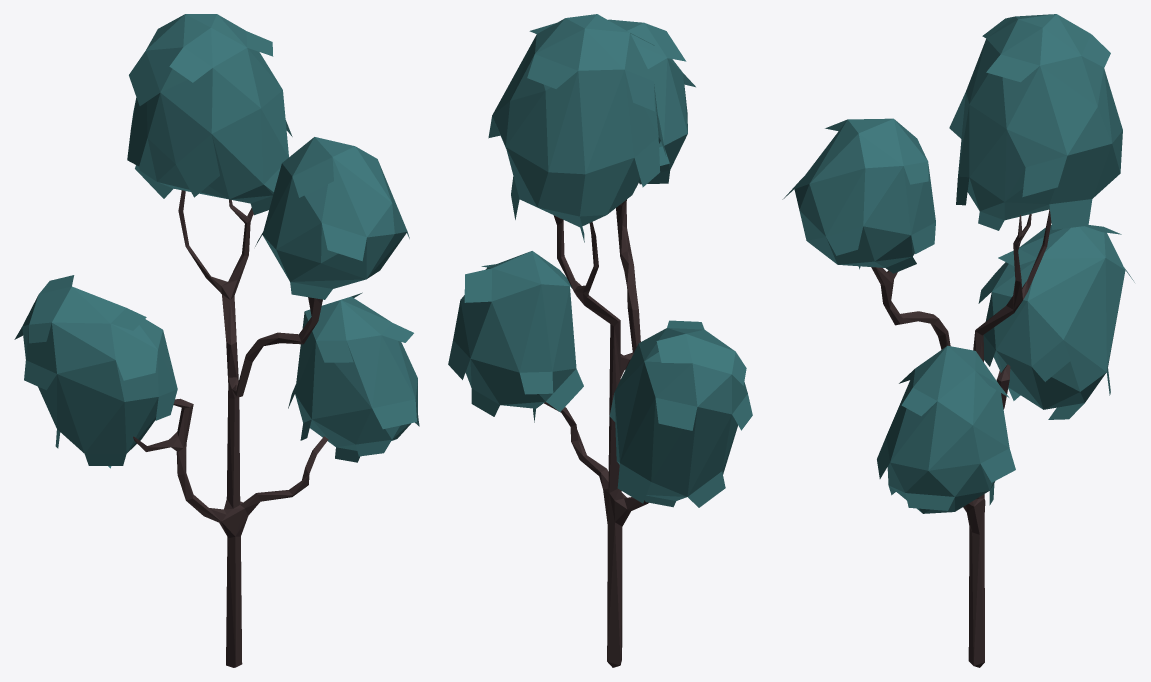
File: Tree_Forest_Turquoise_04.glb
3 renders of one model, left to right at view 1: azimuth 30°, elevation 25°; view 2: azimuth 150°, elevation 25°; view 3: azimuth 270°, elevation 25°, orthographic. The views are drawn at different scales.
Visible parts, largest first — view 1: Tree_Forest_Turquoise_04; view 2: Tree_Forest_Turquoise_04; view 3: Tree_Forest_Turquoise_04.
Part boxes in pixels (<box>): Tree_Forest_Turquoise_04: <box>14,14,419,667</box>; Tree_Forest_Turquoise_04: <box>448,14,752,667</box>; Tree_Forest_Turquoise_04: <box>782,14,1134,667</box>.
Size of what is drawn, in the model's own units: 5.94 by 11.01 by 5.47.
1 material, 1 textured.
